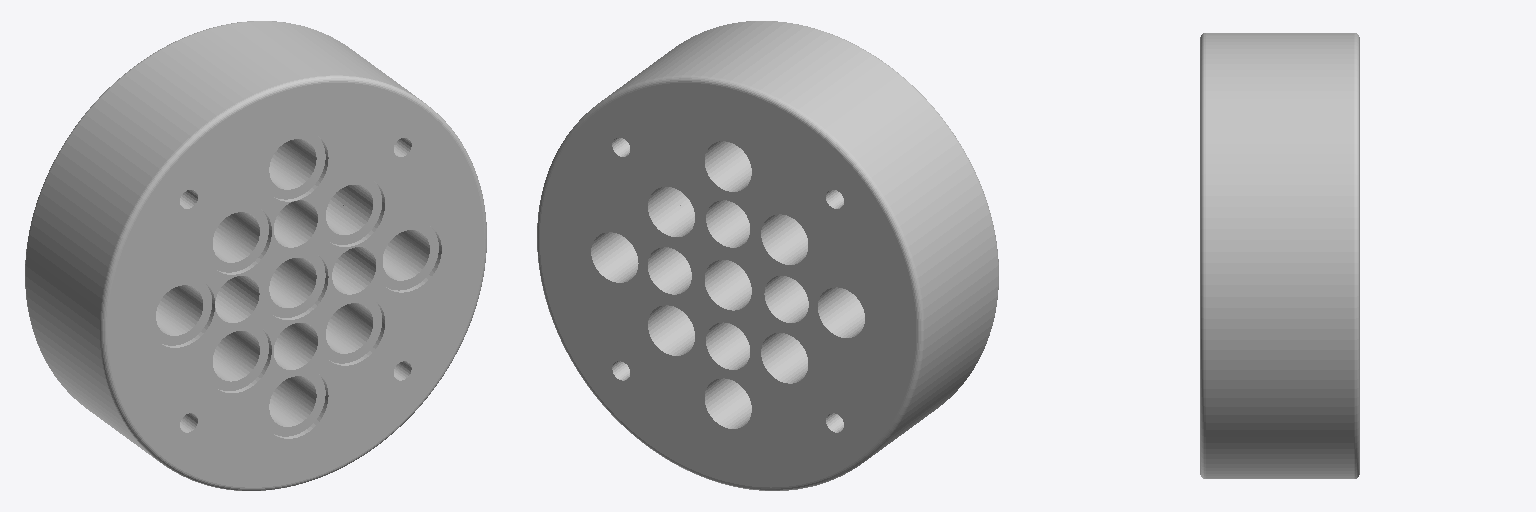
The model's file is joint7.obj.
The picture shows the model from 3 angles: view 1: azimuth 30°, elevation 25°; view 2: azimuth 150°, elevation 25°; view 3: azimuth 270°, elevation 25°; orthographic projection.
Bounding box in the file's own units: 0.0384 × 0.0384 × 0.0137.